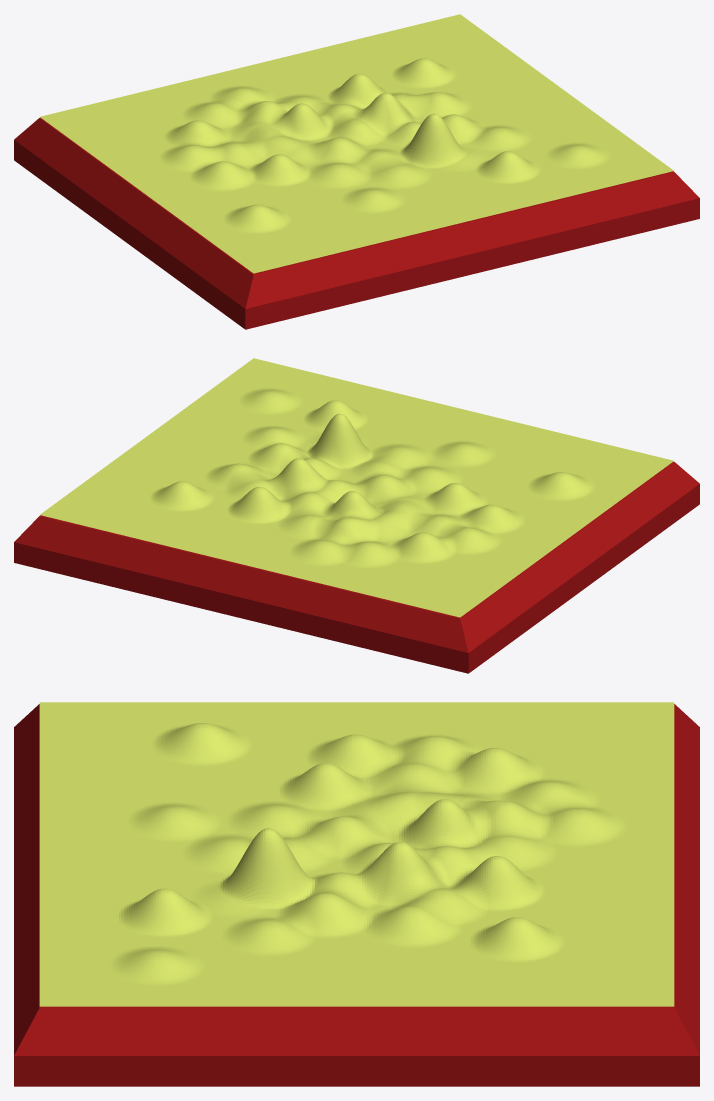
The picture shows the model from 3 angles, top to bottom: view 1: azimuth 30°, elevation 25°; view 2: azimuth 150°, elevation 25°; view 3: azimuth 270°, elevation 25°; orthographic projection. The views are drawn at different scales.
Parts seen in each view (by area): view 1: 平面, Cube; view 2: 平面, Cube; view 3: 平面, Cube.
Part boxes in pixels (x1=…): 平面: x1=40, y1=14, x2=673, y2=273; Cube: x1=14, y1=117, x2=699, y2=329; 平面: x1=40, y1=358, x2=673, y2=617; Cube: x1=14, y1=461, x2=699, y2=673; 平面: x1=39, y1=702, x2=674, y2=1006; Cube: x1=14, y1=704, x2=699, y2=1086.
Bounding box in the file's own units: 1596 × 287 × 1407.
